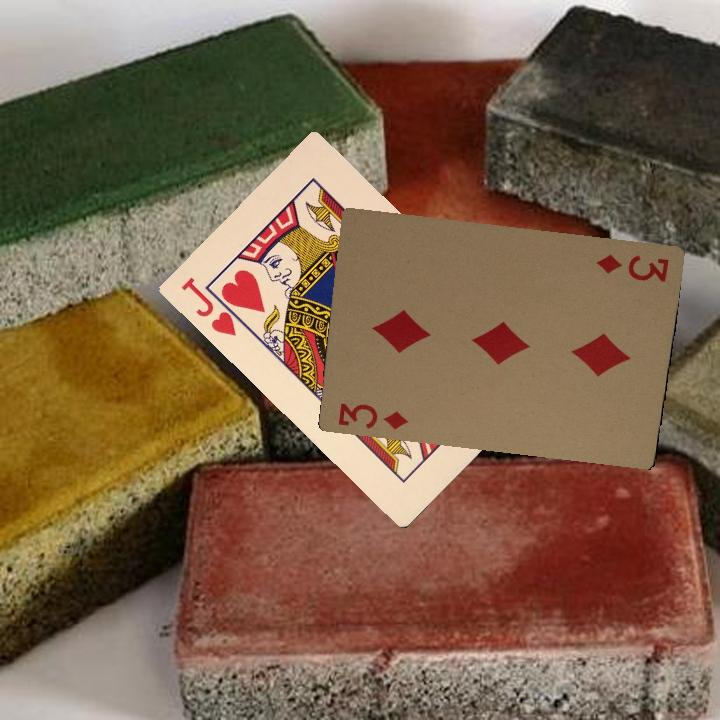3d: (592, 250, 672, 285), (334, 398, 410, 432)
Jh: (176, 273, 250, 339)
